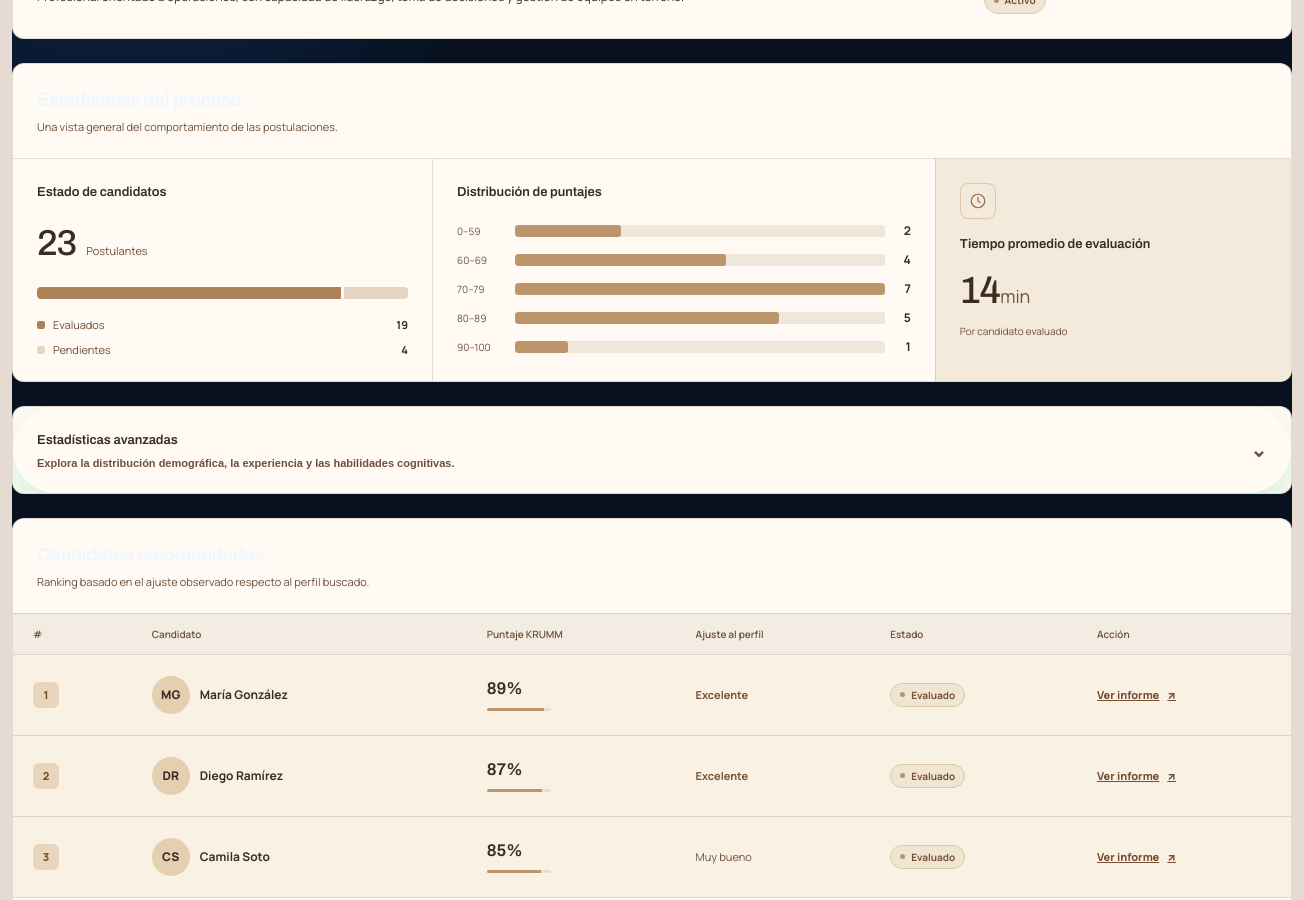
Test case: C. CompanyProcessDetailPage — demo ES (secciones de la referencia) › advanced statistics (details): edad/experiencia/cognitivas de la referencia
This screenshot has width=1304, height=900.
(page scrolled)
Click the button "Estadísticas avanzadas" at [107, 440], box [13,407,1291,493]
(page scrolled)
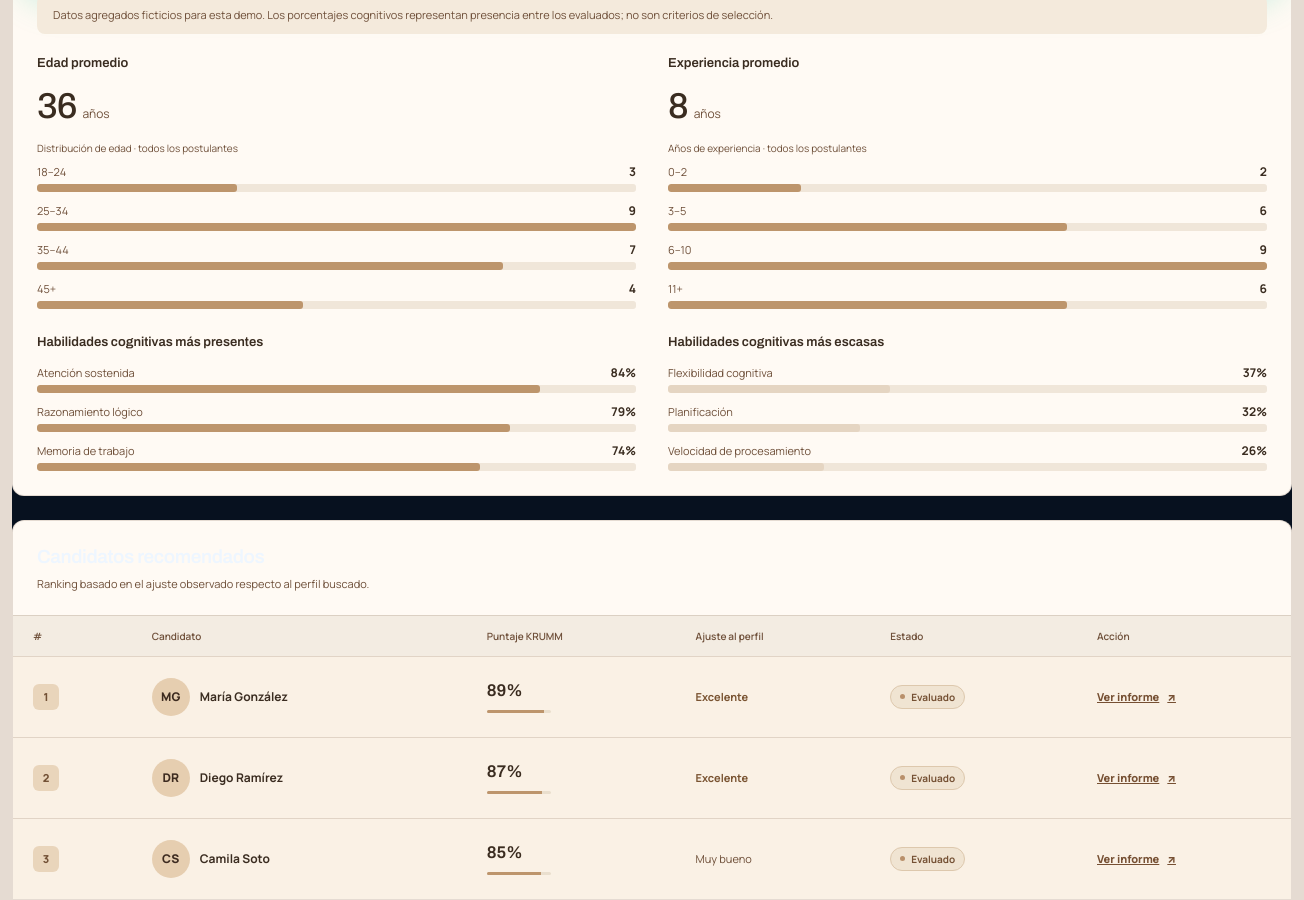
Result: the text "Datos agregados ficticios para esta demo. Los porcentajes cognitivos representan presencia entre los evaluados; no son c" is shown at [53,7,773,22]
Result: the heading "Edad promedio" is shown at [37,56,128,70]
Result: the text "36" is shown at [37,85,76,129]
